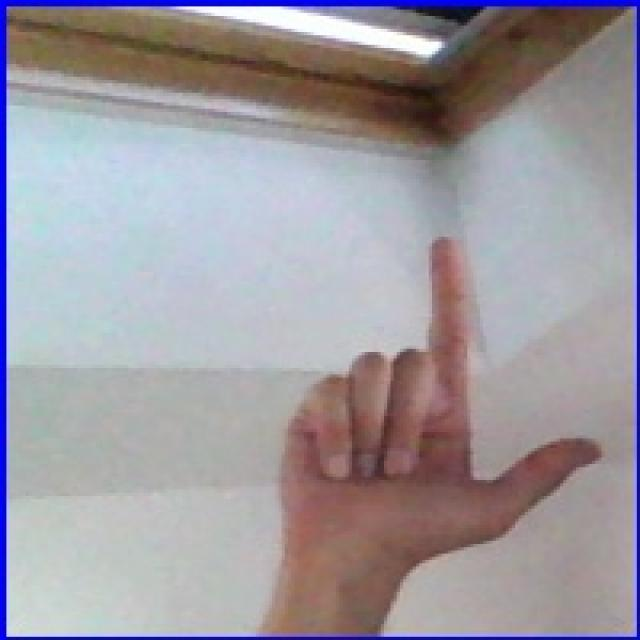Letra L: (254, 211, 618, 616)
